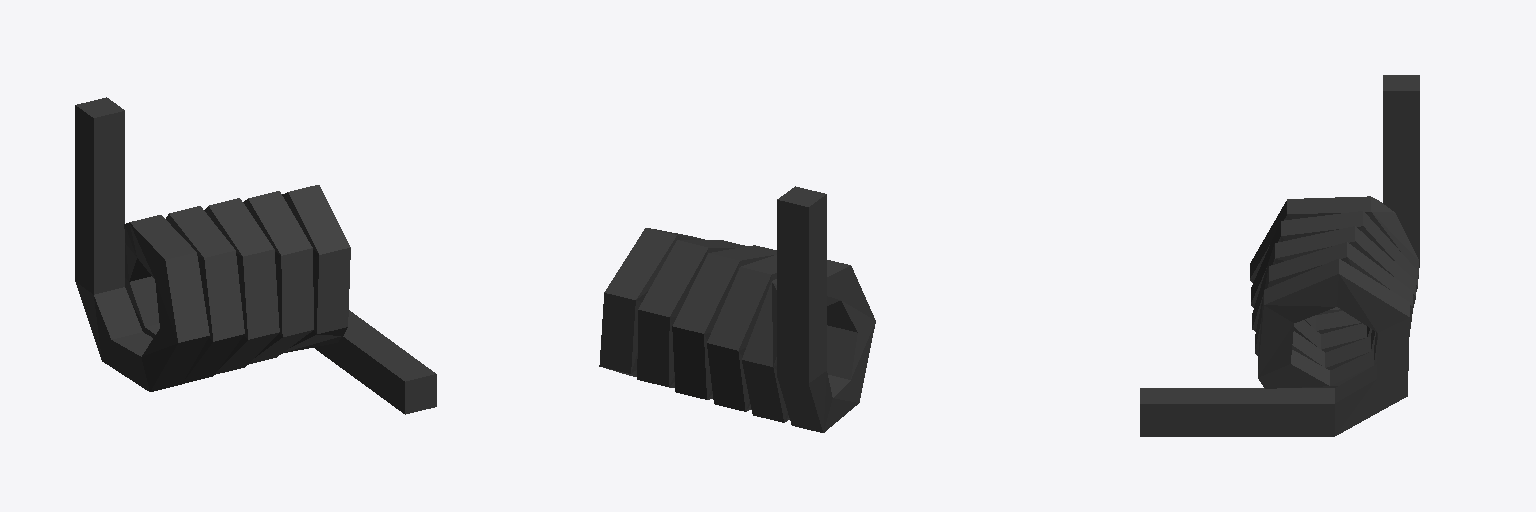
Rendered from Hinge_Coil_Spring.obj.
The picture shows the model from 3 angles: view 1: azimuth 30°, elevation 25°; view 2: azimuth 150°, elevation 25°; view 3: azimuth 270°, elevation 25°; orthographic projection.
Parts seen in each view (by area): view 1: _[number redacted]; view 2: _[number redacted]; view 3: _[number redacted].
Boxes of the visible parts, x1,y1,x2,y2 form: _[number redacted]: [75, 97, 436, 414]; _[number redacted]: [599, 186, 875, 432]; _[number redacted]: [1140, 75, 1419, 436].
Size of the model in its own units: 10.5 by 11.5 by 11.5.